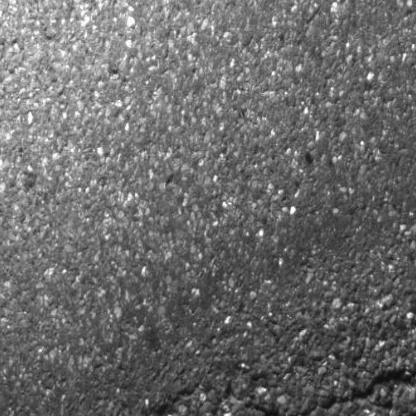Cracks: (249, 372, 416, 416), (98, 390, 194, 416), (387, 404, 416, 416), (366, 399, 395, 411)
